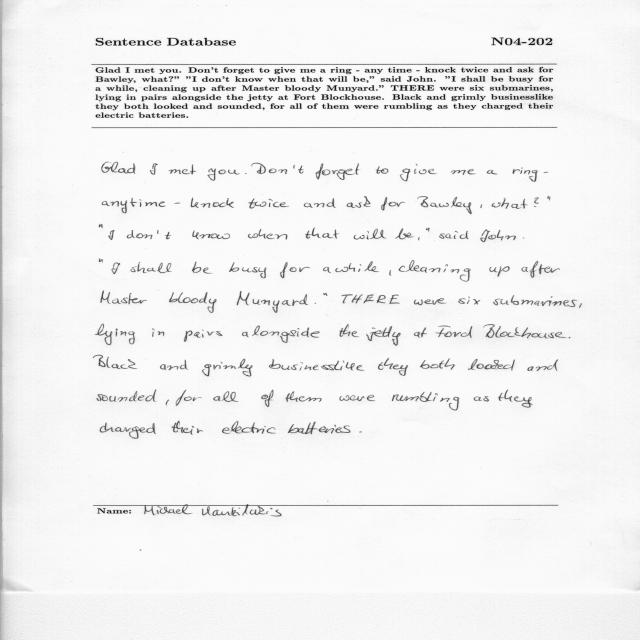word: (399, 260, 471, 282), (237, 291, 308, 313), (242, 325, 320, 343), (392, 392, 459, 411), (484, 324, 567, 339), (269, 359, 364, 371), (493, 295, 577, 307), (169, 292, 216, 313), (418, 197, 472, 215), (100, 422, 156, 439), (202, 359, 252, 377), (96, 324, 136, 345), (316, 163, 360, 180), (288, 422, 350, 434), (97, 390, 156, 402), (222, 421, 276, 434), (366, 326, 401, 346), (521, 261, 560, 278), (498, 390, 533, 408), (400, 164, 437, 181), (94, 355, 138, 369), (101, 291, 147, 304), (229, 262, 266, 278), (341, 294, 400, 304), (252, 163, 304, 174), (468, 359, 515, 371), (378, 358, 408, 376), (336, 261, 380, 272), (280, 262, 310, 278), (191, 197, 234, 208), (480, 229, 516, 242), (130, 262, 172, 273), (184, 330, 222, 342), (248, 198, 289, 209), (172, 421, 204, 435), (436, 326, 473, 338), (248, 229, 288, 240), (420, 358, 455, 370), (208, 168, 240, 181), (176, 390, 202, 406), (285, 392, 322, 403), (102, 162, 135, 174), (492, 198, 528, 209), (127, 230, 171, 239), (513, 167, 538, 182), (305, 228, 339, 239), (527, 359, 558, 371), (354, 229, 387, 240), (192, 231, 230, 240), (103, 201, 128, 214), (304, 198, 336, 208), (130, 198, 165, 207), (381, 197, 405, 210), (346, 196, 371, 208), (160, 360, 188, 370), (214, 391, 239, 402), (169, 165, 196, 175), (340, 324, 359, 337), (439, 231, 469, 239), (192, 262, 212, 274), (489, 266, 510, 277), (414, 299, 446, 306), (340, 395, 375, 401), (395, 229, 414, 240), (262, 390, 274, 407), (458, 297, 480, 305), (451, 169, 476, 175), (414, 327, 427, 338), (152, 328, 164, 337), (112, 263, 121, 274), (150, 163, 158, 175), (376, 166, 388, 174), (474, 396, 489, 402), (108, 230, 115, 240), (534, 197, 539, 207), (323, 267, 331, 273), (487, 170, 498, 174), (166, 400, 169, 406), (99, 225, 103, 229), (426, 228, 430, 232), (99, 259, 103, 263), (579, 303, 582, 308), (175, 202, 181, 204), (548, 197, 551, 201), (324, 293, 328, 296), (390, 270, 392, 275), (481, 205, 483, 208), (359, 431, 362, 433), (544, 172, 548, 173), (418, 237, 419, 241), (245, 173, 247, 174), (569, 337, 571, 338), (523, 238, 524, 239), (315, 303, 316, 304)
